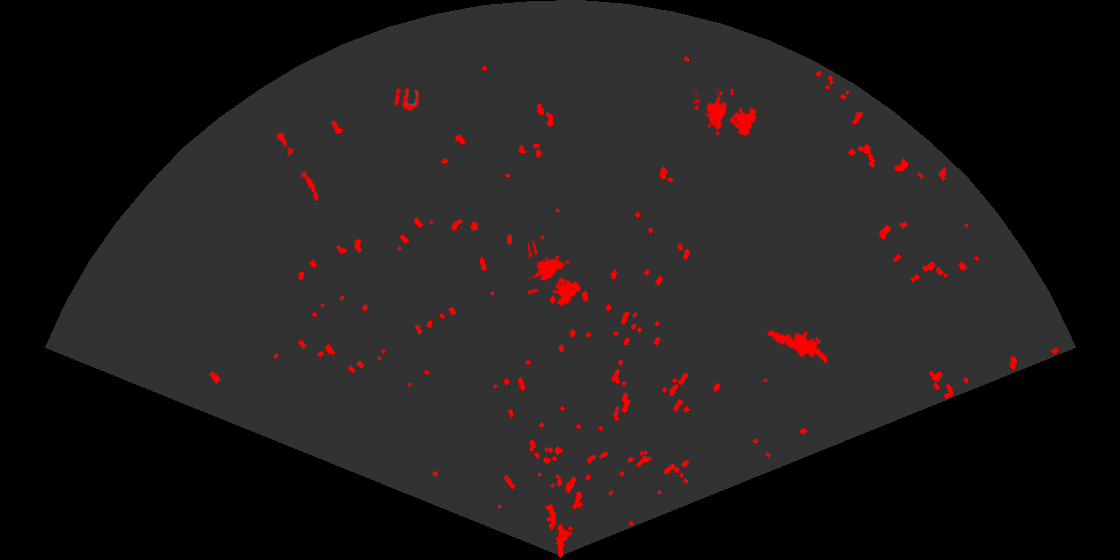ball: (393, 86, 421, 113)
cage: (528, 241, 583, 308), (694, 89, 758, 138)
chain: (270, 123, 320, 203)
frogman: (765, 328, 827, 366)
